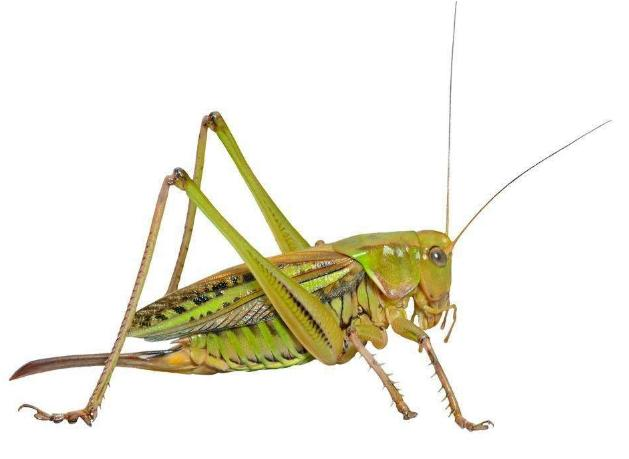huangchong: (40, 182, 474, 424)
